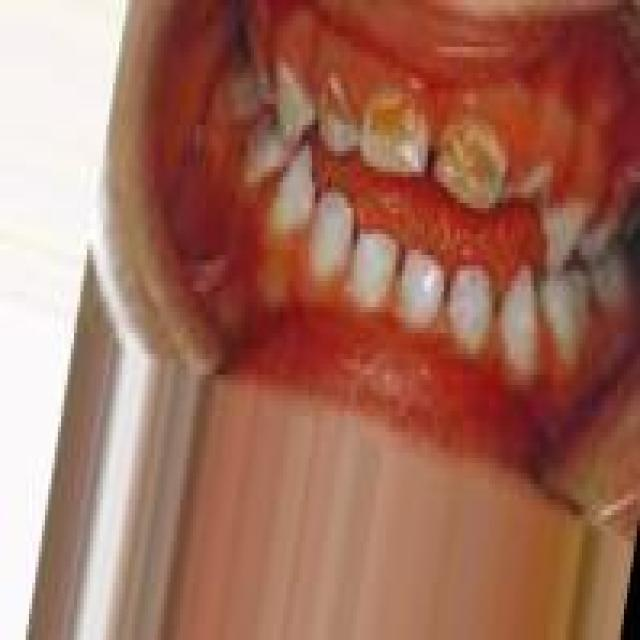caries: (435, 112, 509, 224), (362, 91, 433, 182), (311, 71, 361, 163)
